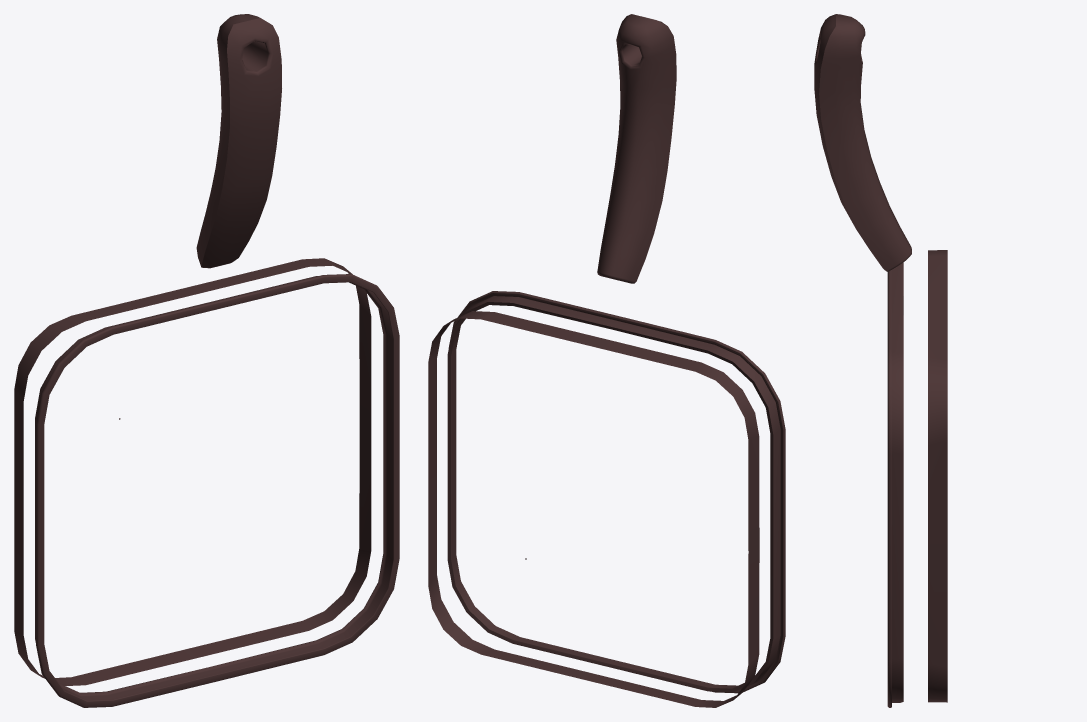
The model's file is MeshPot_9_0_GeomSubset_1.obj.
3 views of the same model, side by side, from view 1: azimuth 30°, elevation 25°; view 2: azimuth 150°, elevation 25°; view 3: azimuth 270°, elevation 25° (orthographic). The views are drawn at different scales.
Parts seen in each view (by area): view 1: MeshPot_9_0_GeomSubset_1; view 2: MeshPot_9_0_GeomSubset_1; view 3: MeshPot_9_0_GeomSubset_1.
Part boxes in pixels (<box>): MeshPot_9_0_GeomSubset_1: <box>14,14,399,707</box>; MeshPot_9_0_GeomSubset_1: <box>428,14,785,707</box>; MeshPot_9_0_GeomSubset_1: <box>814,14,947,707</box>.
Size of the model in its own units: 0.2665 by 0.478 by 0.1771.
